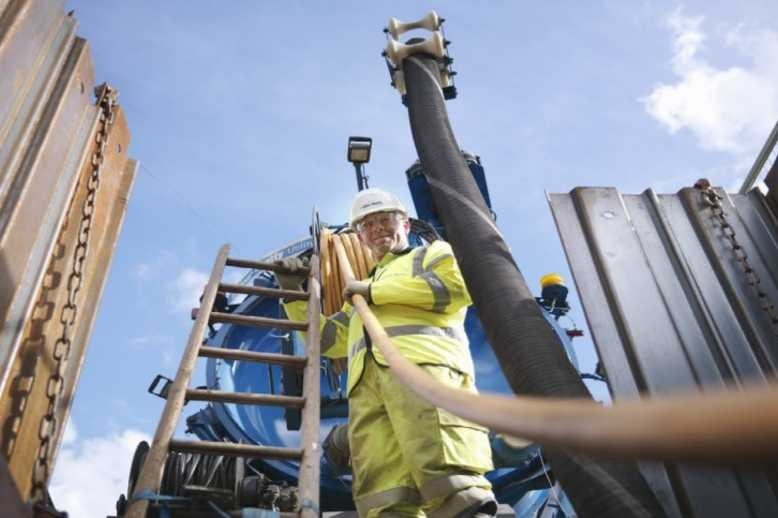white: (349, 183, 411, 253)
